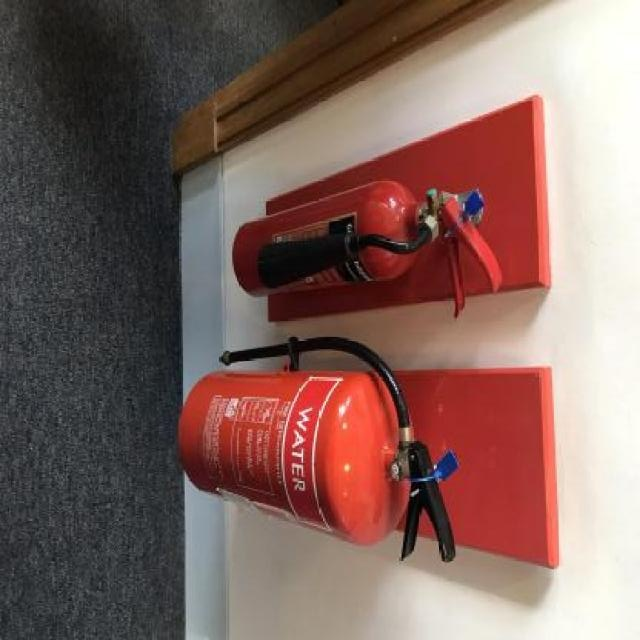fire extinguisher: (177, 340, 458, 563), (230, 181, 502, 315)
